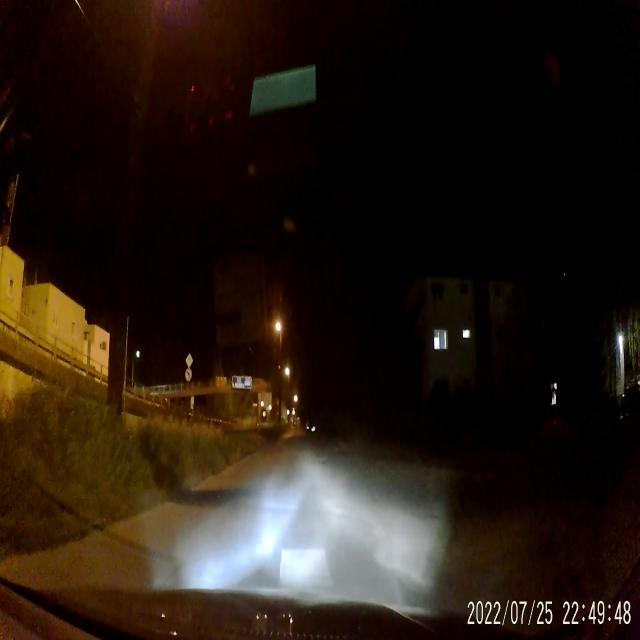Pothole: (282, 547, 336, 588)
